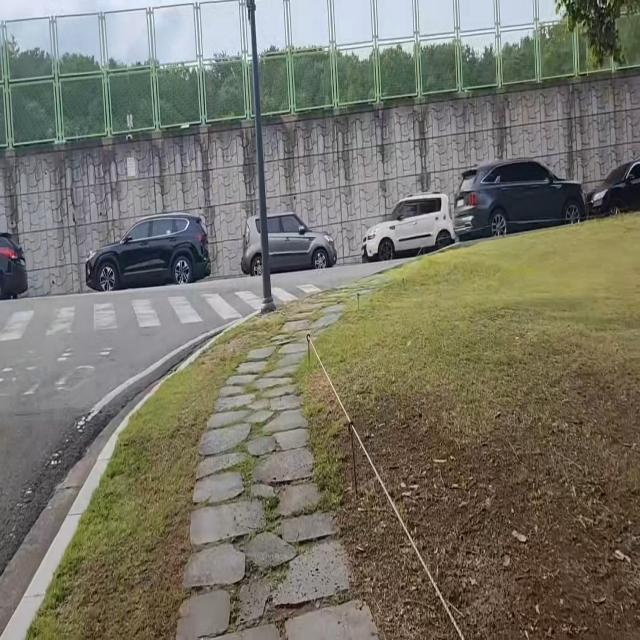obstacle: (454, 145, 598, 247), (0, 218, 33, 314)
road: (0, 265, 400, 640)
